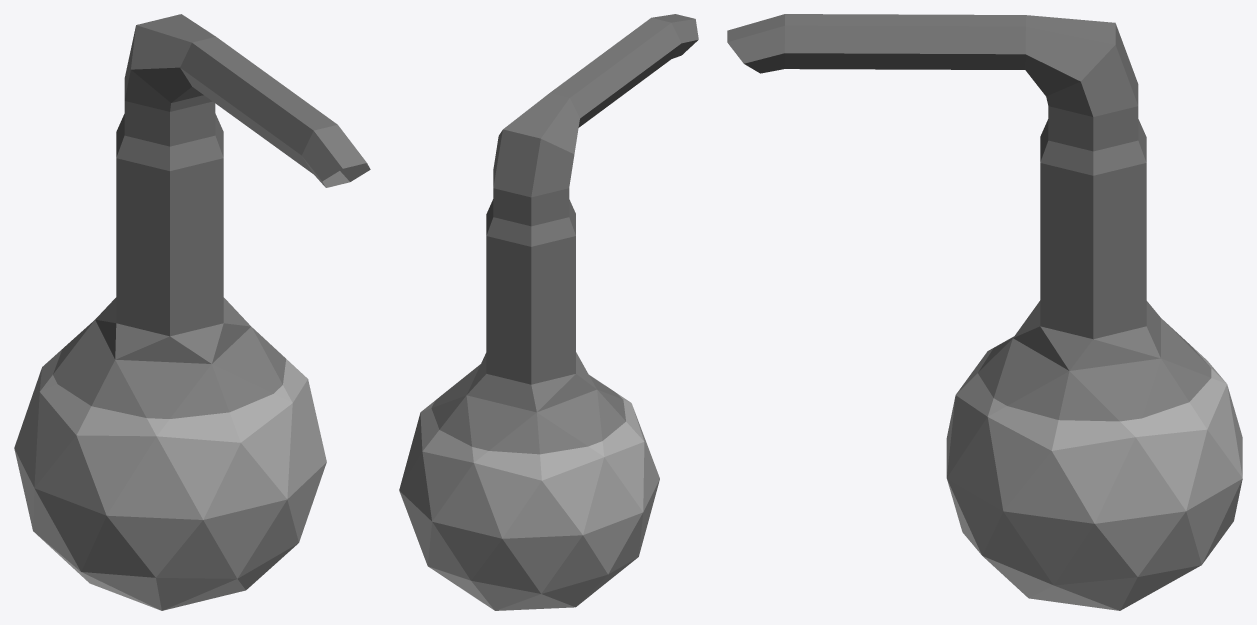
File: alchemist_aparatus_749x07.gltf
3 renders of one model, left to right at view 1: azimuth 30°, elevation 25°; view 2: azimuth 150°, elevation 25°; view 3: azimuth 270°, elevation 25°, orthographic. The views are drawn at different scales.
Parts seen in each view (by area): view 1: alchemist_aparatus_749x07; view 2: alchemist_aparatus_749x07; view 3: alchemist_aparatus_749x07.
Boxes of the visible parts, x1,y1,x2,y2 form: alchemist_aparatus_749x07: (14,14,370,610); alchemist_aparatus_749x07: (399,14,698,610); alchemist_aparatus_749x07: (727,14,1242,610).
Size of the model in its own units: 0.5225 by 1.07 by 0.8656.
Materials: 2 (2 with a texture image).
